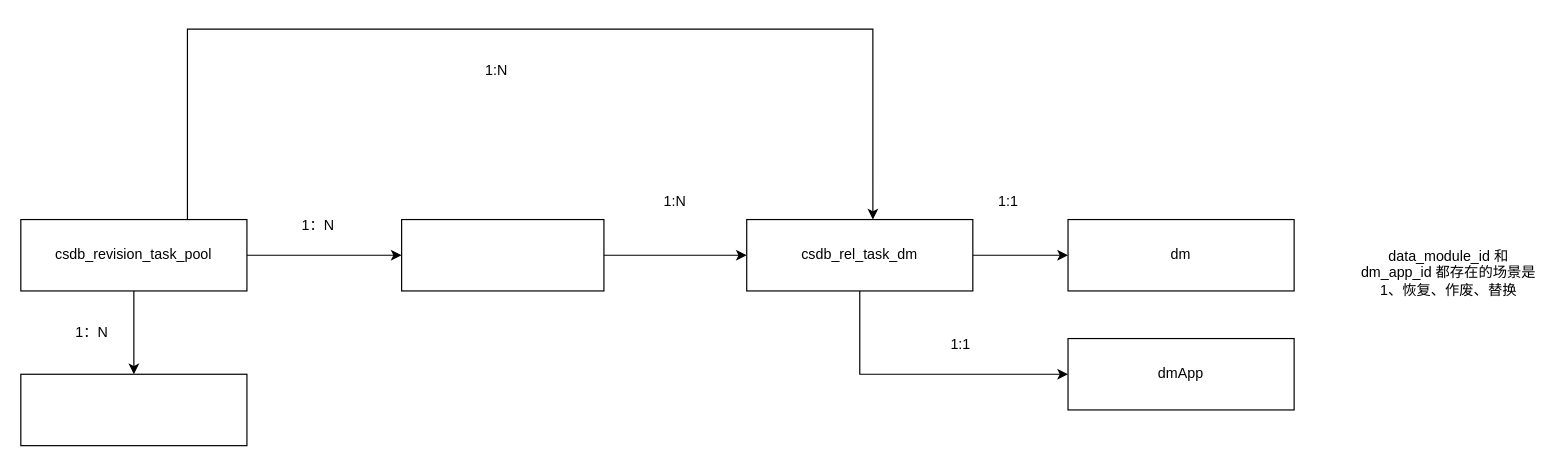
This 1565x466 diagram has some shape labels left out. Here are the shapes that lost their labels. From the top down, the centre of each, then its label:
the point at 502,254: csdb_revision_eval_form
the point at 133,409: csdb_revision_task_item
